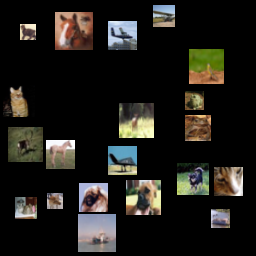airplane: (108, 21, 137, 50), (108, 146, 137, 175), (153, 5, 175, 27)
bird: (189, 49, 224, 84)
cat: (3, 85, 35, 117), (214, 167, 243, 196), (15, 197, 37, 219), (20, 24, 36, 40)
deer: (8, 127, 43, 162), (119, 103, 154, 138), (47, 193, 63, 209)
dog: (126, 180, 161, 215), (177, 163, 209, 195), (79, 183, 108, 212)
frog: (185, 115, 211, 141), (185, 91, 204, 110)
ship: (78, 214, 116, 252), (211, 209, 230, 228)
